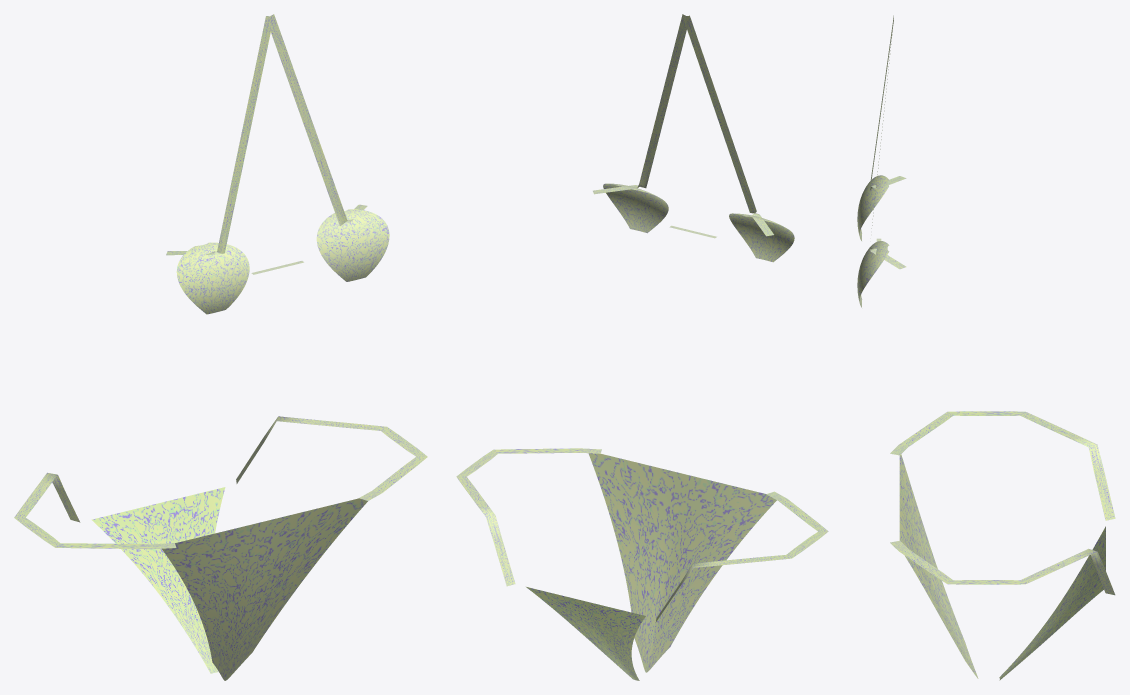
The model's file is bikini_d845074a.obj.
The picture shows the model from 3 angles, left to right: view 1: azimuth 30°, elevation 25°; view 2: azimuth 150°, elevation 25°; view 3: azimuth 270°, elevation 25°; orthographic projection. The views are drawn at different scales.
Visible parts, largest first — view 1: bottom_front_highcut, bottom_back_thong, cup_right_triangle, cup_left_triangle, strap_right_halter, strap_left_halter, bottom_strap_left_tie, bottom_strap_right_tie; view 2: bottom_front_highcut, bottom_back_thong, bottom_strap_right_tie, cup_right_triangle, cup_left_triangle, strap_left_halter, strap_right_halter, bottom_strap_left_tie; view 3: bottom_front_highcut, bottom_back_thong, bottom_strap_left_tie, bottom_strap_right_tie, cup_right_triangle, cup_left_triangle.
Boxes of the visible parts, x1,y1,x2,y2 form: bottom_front_highcut: (162, 498, 367, 680); bottom_back_thong: (91, 487, 225, 673); cup_right_triangle: (316, 209, 389, 281); cup_left_triangle: (176, 242, 249, 314); strap_right_halter: (270, 14, 367, 226); strap_left_halter: (166, 16, 270, 255); bottom_strap_left_tie: (14, 472, 176, 549); bottom_strap_right_tie: (236, 416, 427, 500); bottom_front_highcut: (588, 453, 776, 672); bottom_back_thong: (526, 587, 645, 680); bottom_strap_right_tie: (456, 448, 601, 586); cup_right_triangle: (603, 183, 668, 233); cup_left_triangle: (729, 213, 794, 262); strap_left_halter: (682, 15, 773, 236); strap_right_halter: (593, 14, 689, 194); bottom_strap_left_tie: (655, 491, 828, 622); bottom_front_highcut: (899, 454, 978, 678); bottom_back_thong: (999, 526, 1105, 680); bottom_strap_left_tie: (890, 411, 1115, 520); bottom_strap_right_tie: (890, 540, 1115, 595); cup_right_triangle: (857, 241, 889, 307); cup_left_triangle: (857, 175, 888, 240).
Size of the model in its own units: 0.4414 by 0.7875 by 0.2778.
Materials: 1 (1 with a texture image).
